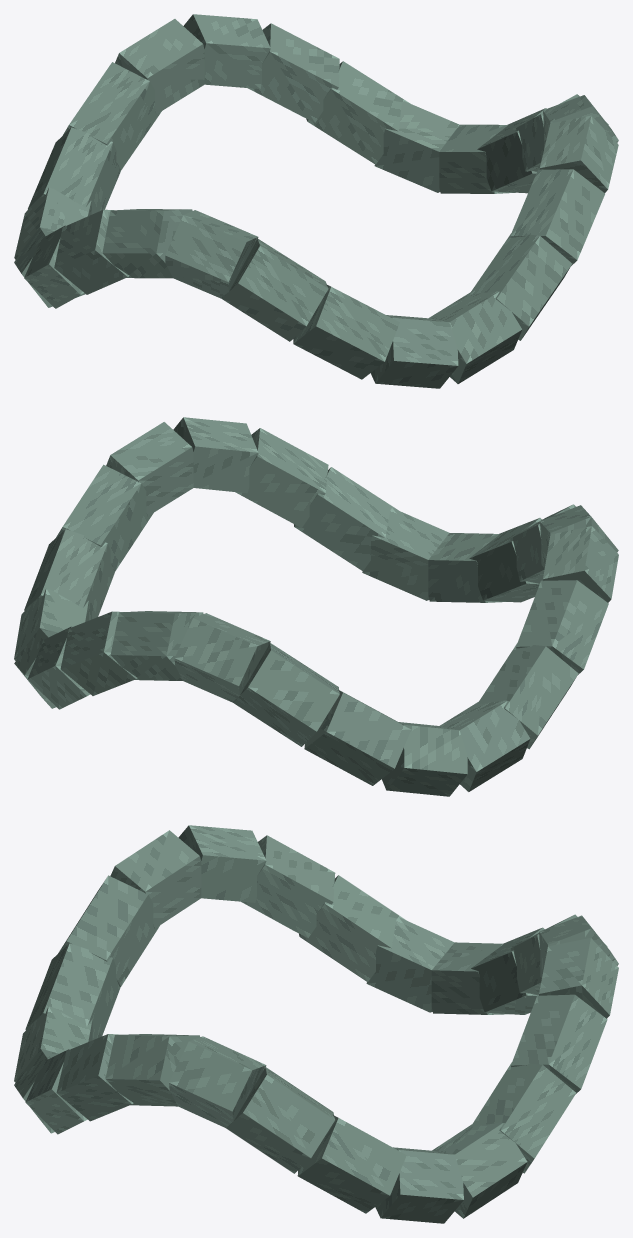
File: art_duocylinder.glb
The picture shows the model from 3 angles, top to bottom: view 1: azimuth 30°, elevation 25°; view 2: azimuth 150°, elevation 25°; view 3: azimuth 270°, elevation 25°; orthographic projection. The views are drawn at different scales.
Parts seen in each view (by area): view 1: block_undulating ring 8, block_undulating ring 7, block_undulating ring 3, block_undulating ring 4, block_undulating ring 9, block_undulating ring 20, block_undulating ring 16, block_undulating ring 19, block_undulating ring 17, block_undulating ring 15, block_undulating ring 6, block_undulating ring 5 (+12 smaller); view 2: block_undulating ring 16, block_undulating ring 15, block_undulating ring 17, block_undulating ring 11, block_undulating ring 4, block_undulating ring 3, block_undulating ring 12, block_undulating ring 0, block_undulating ring 23, block_undulating ring 1, block_undulating ring 14, block_undulating ring 18 (+12 smaller); view 3: block_undulating ring 0, block_undulating ring 23, block_undulating ring 19, block_undulating ring 1, block_undulating ring 20, block_undulating ring 12, block_undulating ring 8, block_undulating ring 11, block_undulating ring 7, block_undulating ring 9, block_undulating ring 21, block_undulating ring 22 (+12 smaller).
Part boxes in pixels (bbox=[...]): block_undulating ring 8: bbox=[221, 239, 328, 341]; block_undulating ring 7: bbox=[293, 284, 399, 379]; block_undulating ring 3: bbox=[510, 169, 604, 265]; block_undulating ring 4: bbox=[469, 234, 572, 340]; block_undulating ring 9: bbox=[165, 210, 258, 298]; block_undulating ring 20: bbox=[306, 61, 410, 164]; block_undulating ring 16: bbox=[63, 62, 161, 170]; block_undulating ring 19: bbox=[247, 23, 339, 122]; block_undulating ring 17: bbox=[115, 19, 204, 114]; block_undulating ring 15: bbox=[28, 127, 120, 214]; block_undulating ring 6: bbox=[370, 315, 458, 388]; block_undulating ring 5: bbox=[429, 291, 522, 383]; block_undulating ring 16: bbox=[233, 643, 339, 746]; block_undulating ring 15: bbox=[304, 690, 411, 785]; block_undulating ring 17: bbox=[174, 613, 270, 702]; block_undulating ring 11: bbox=[516, 580, 608, 674]; block_undulating ring 4: bbox=[294, 467, 398, 570]; block_undulating ring 3: bbox=[235, 428, 328, 527]; block_undulating ring 12: bbox=[477, 644, 578, 749]; block_undulating ring 0: bbox=[56, 464, 153, 570]; block_undulating ring 23: bbox=[24, 529, 115, 620]; block_undulating ring 1: bbox=[106, 422, 193, 516]; block_undulating ring 14: bbox=[382, 722, 467, 796]; block_undulating ring 18: bbox=[110, 611, 203, 680]; block_undulating ring 0: bbox=[226, 1067, 334, 1173]; block_undulating ring 23: bbox=[297, 1115, 406, 1213]; block_undulating ring 19: bbox=[511, 994, 607, 1093]; block_undulating ring 1: bbox=[169, 1036, 266, 1127]; block_undulating ring 20: bbox=[471, 1062, 575, 1173]; block_undulating ring 12: bbox=[299, 875, 406, 982]; block_undulating ring 8: bbox=[58, 875, 159, 986]; block_undulating ring 11: bbox=[241, 835, 335, 937]; block_undulating ring 7: bbox=[25, 943, 120, 1039]; block_undulating ring 9: bbox=[110, 830, 201, 928]; block_undulating ring 21: bbox=[432, 1122, 527, 1218]; block_undulating ring 22: bbox=[375, 1147, 463, 1223].
Size of the model in its own units: 0.05 by 0.0159 by 0.0477.
Materials: 1 (1 with a texture image).
